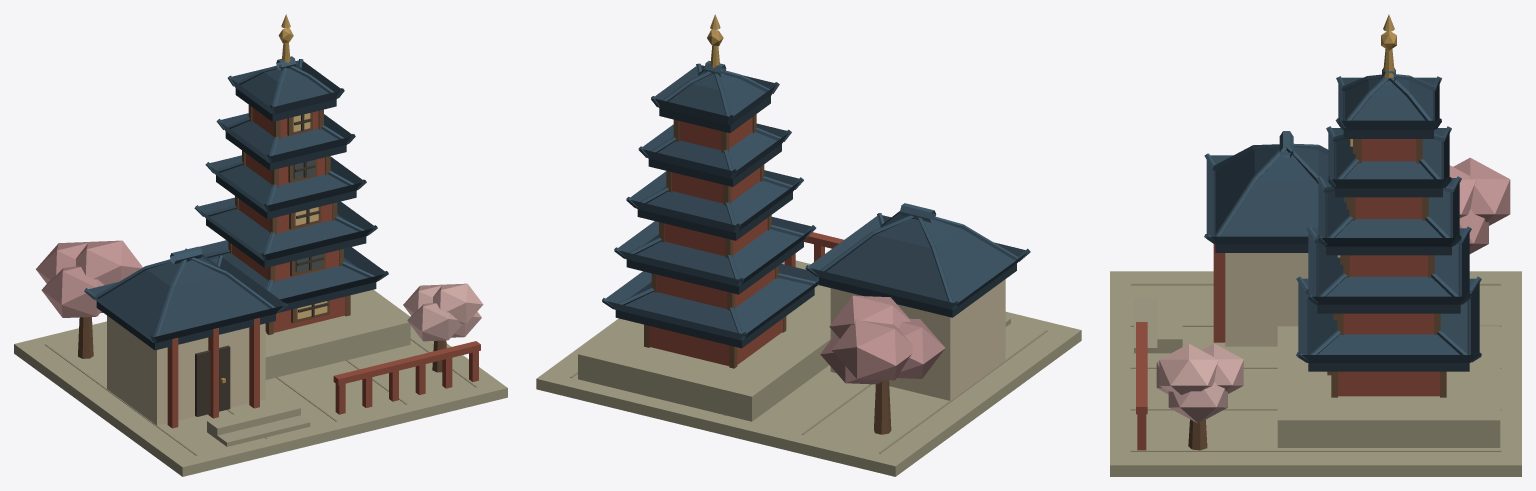
3 views of the same model, side by side, from view 1: azimuth 30°, elevation 25°; view 2: azimuth 150°, elevation 25°; view 3: azimuth 270°, elevation 25° (orthographic). The views are drawn at different scales.
Visible parts, largest first — view 1: S36_平城京 · 木构寺塔; view 2: S36_平城京 · 木构寺塔; view 3: S36_平城京 · 木构寺塔.
Part boxes in pixels (bbox=[...]): S36_平城京 · 木构寺塔: bbox=[14, 14, 507, 476]; S36_平城京 · 木构寺塔: bbox=[536, 14, 1081, 476]; S36_平城京 · 木构寺塔: bbox=[1110, 14, 1521, 476].
Bounding box in the file's own units: 3.93 × 3.74 × 3.5.
